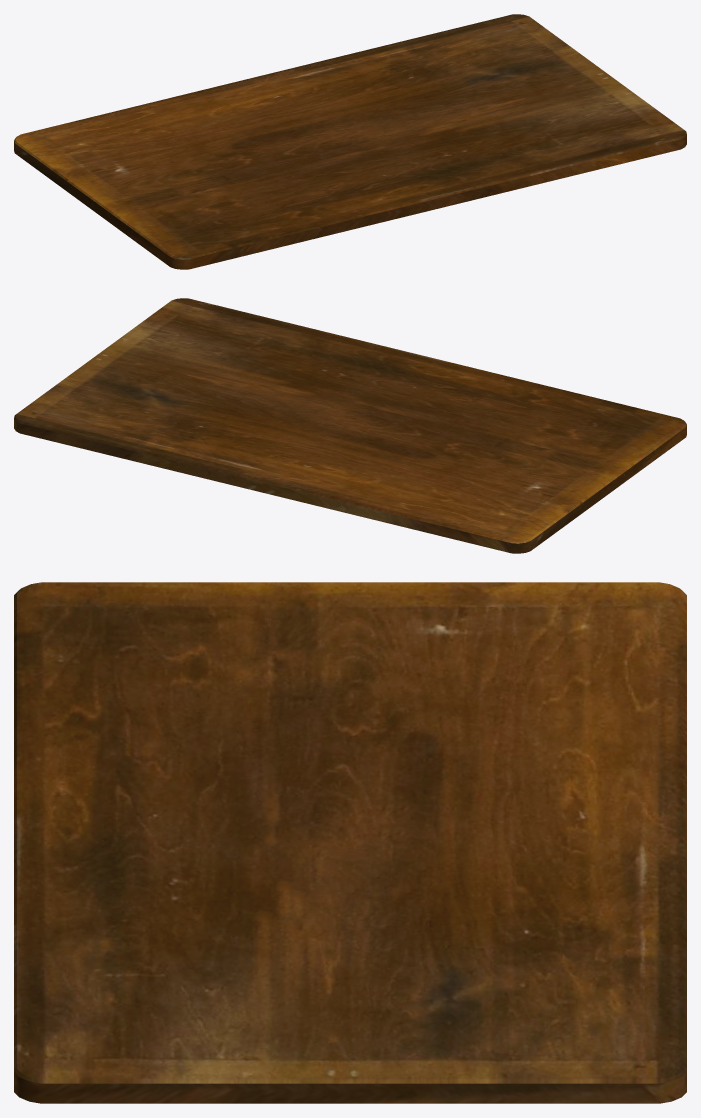
File: table_top_lod002.obj
3 renders of one model, top to bottom at view 1: azimuth 30°, elevation 25°; view 2: azimuth 150°, elevation 25°; view 3: azimuth 270°, elevation 25°, orthographic. The views are drawn at different scales.
Visible parts, largest first — view 1: table_top_002_Cube.003; view 2: table_top_002_Cube.003; view 3: table_top_002_Cube.003.
Part boxes in pixels (<box>): table_top_002_Cube.003: <box>14,14,686,269</box>; table_top_002_Cube.003: <box>14,298,686,553</box>; table_top_002_Cube.003: <box>14,582,686,1103</box>.
Size of the model in its own units: 1.16 by 0.025 by 0.6624.
